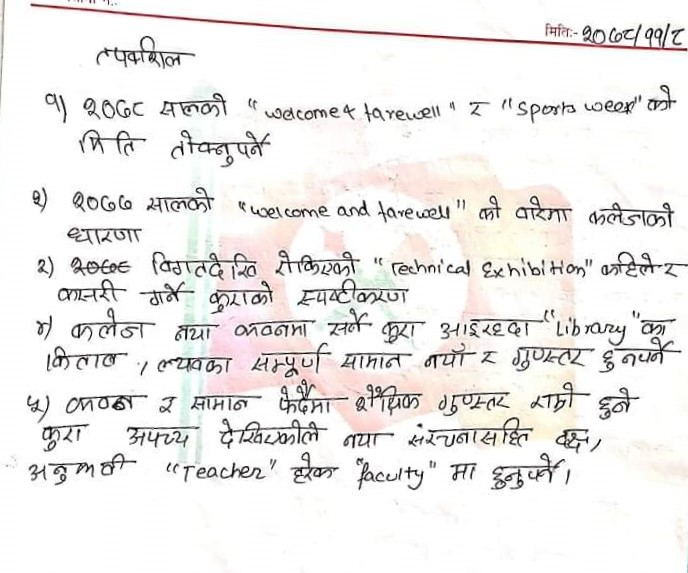text: (406, 417, 529, 453), (169, 127, 270, 170), (149, 248, 259, 282), (26, 451, 127, 486), (295, 277, 409, 308), (216, 416, 323, 449), (92, 34, 189, 69), (249, 341, 329, 380), (488, 451, 561, 491), (70, 309, 149, 343), (597, 337, 672, 372), (273, 248, 360, 278), (208, 278, 274, 316), (438, 315, 534, 341), (586, 202, 676, 229), (507, 345, 589, 374), (351, 383, 421, 416), (157, 91, 231, 121), (278, 379, 333, 418), (145, 186, 214, 217), (77, 126, 139, 160), (155, 352, 236, 378), (46, 345, 121, 373), (437, 389, 509, 418), (53, 278, 123, 307), (62, 392, 141, 416), (122, 423, 192, 450), (66, 224, 147, 247), (230, 317, 312, 339), (286, 451, 336, 487), (599, 249, 657, 280), (80, 95, 147, 121), (70, 190, 135, 216), (526, 380, 577, 413), (514, 195, 572, 223), (593, 385, 635, 422), (40, 422, 90, 453), (336, 351, 405, 372), (187, 392, 252, 414), (422, 343, 470, 371), (326, 308, 370, 337), (143, 281, 186, 308), (173, 320, 217, 344), (552, 425, 591, 452), (380, 318, 418, 345), (645, 82, 676, 115), (340, 429, 384, 451), (476, 194, 505, 224), (639, 318, 674, 339), (663, 257, 688, 283), (449, 461, 478, 482), (42, 90, 61, 117), (157, 395, 177, 416), (480, 349, 497, 370)
